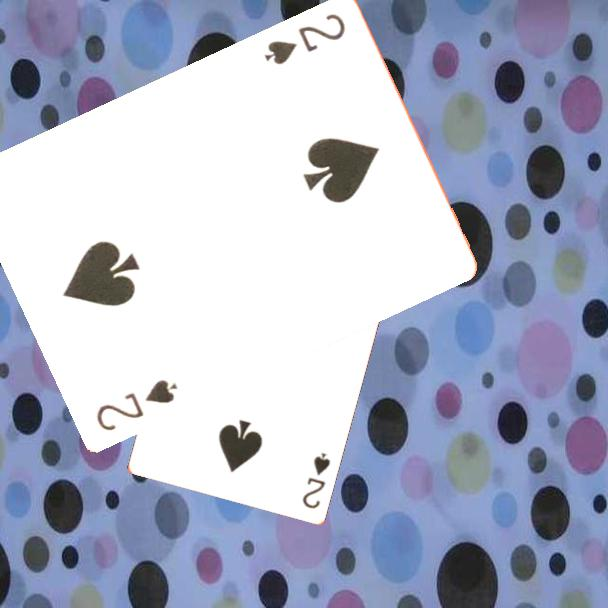s02: (261, 9, 349, 67), (93, 375, 181, 433), (299, 449, 333, 511)
